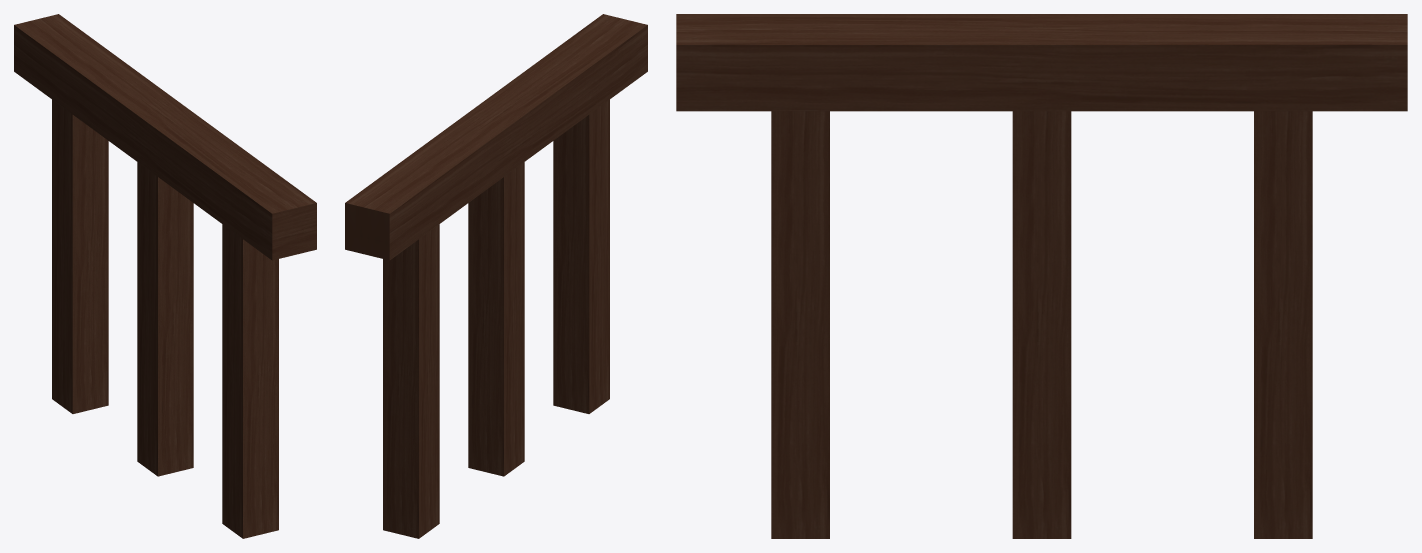
Rendered from railing_m1.fbx.
3 renders of one model, left to right at view 1: azimuth 30°, elevation 25°; view 2: azimuth 150°, elevation 25°; view 3: azimuth 270°, elevation 25°, orthographic. The views are drawn at different scales.
Parts seen in each view (by area): view 1: Railing; view 2: Railing; view 3: Railing.
Part boxes in pixels (x1,y1,x2,y2): Railing: (14, 14, 316, 538); Railing: (345, 14, 647, 538); Railing: (676, 14, 1407, 538).
Bounding box in the file's own units: 2 × 0.2 × 1.5.
